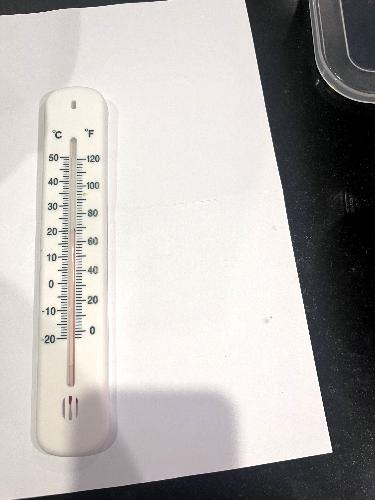thermo: (32, 87, 116, 448)
